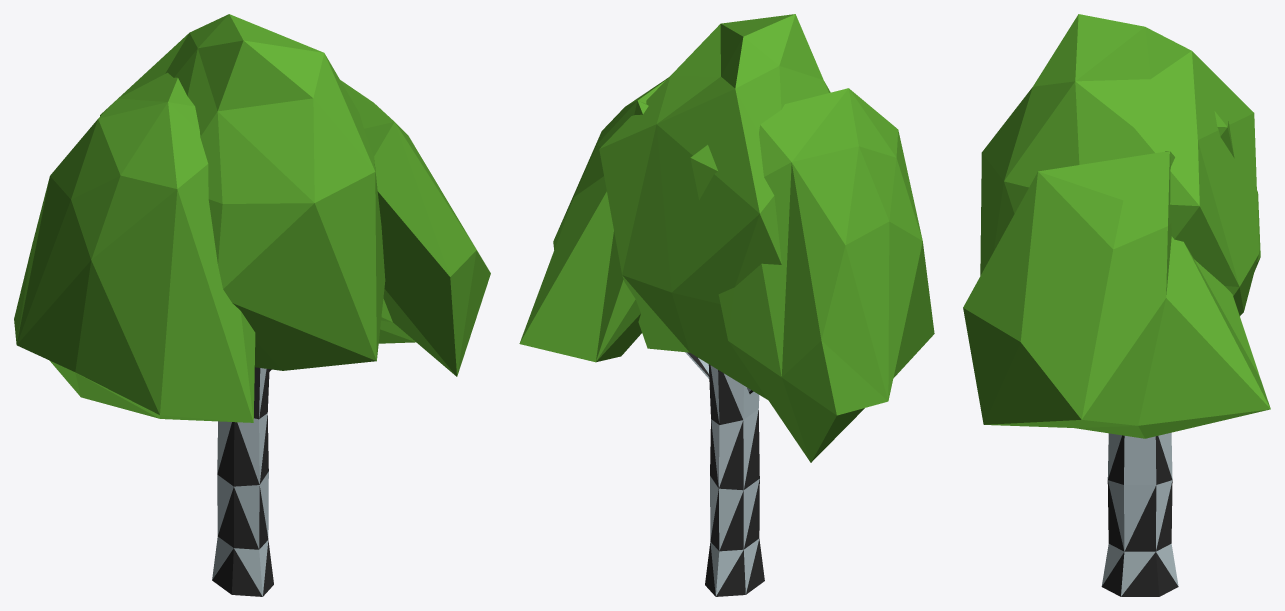
The model's file is Birch.fbx.
3 renders of one model, left to right at view 1: azimuth 30°, elevation 25°; view 2: azimuth 150°, elevation 25°; view 3: azimuth 270°, elevation 25°, orthographic. The views are drawn at different scales.
Visible parts, largest first — view 1: Birch; view 2: Birch; view 3: Birch.
Boxes of the visible parts, x1,y1,x2,y2 form: Birch: [14, 14, 490, 596]; Birch: [519, 14, 934, 596]; Birch: [963, 14, 1270, 596].
Size of the model in its own units: 1.5 by 2 by 1.
